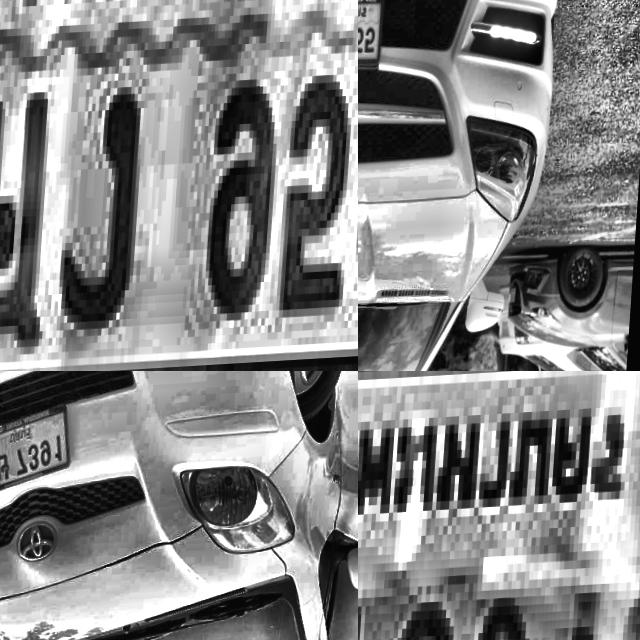license-plate: (0, 0, 358, 371), (358, 371, 640, 640), (0, 396, 78, 503), (358, 0, 391, 81)
